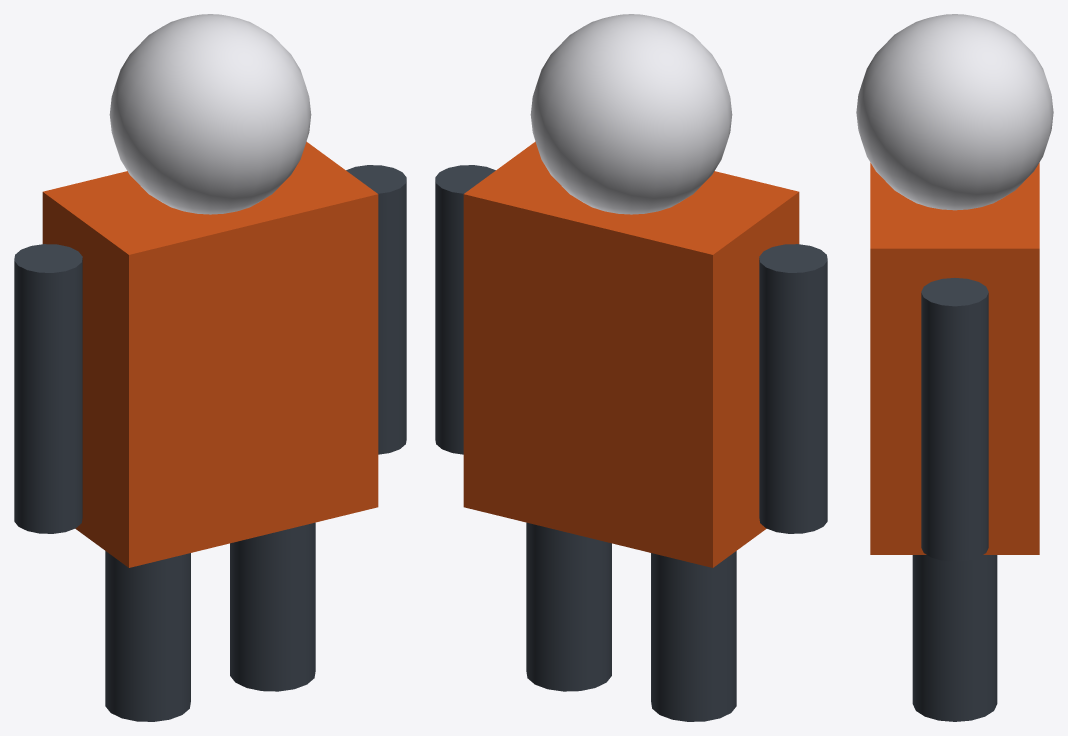
Rendered from robot.obj.
3 renders of one model, left to right at view 1: azimuth 30°, elevation 25°; view 2: azimuth 150°, elevation 25°; view 3: azimuth 270°, elevation 25°, orthographic. The views are drawn at different scales.
Visible parts, largest first — view 1: body, head, arm_left, leg_left, leg_right, arm_right; view 2: body, head, arm_left, leg_left, leg_right, arm_right; view 3: body, head, arm_right, leg_right.
Boxes of the visible parts, x1,y1,x2,y2 form: body: (42,141,378,567); head: (109,14,311,214); arm_left: (14,244,82,533); leg_left: (105,551,190,721); leg_right: (230,522,315,691); arm_right: (346,165,406,454); body: (463,141,799,567); head: (530,14,732,214); arm_left: (759,244,827,533); leg_left: (651,551,736,721); leg_right: (526,522,611,691); arm_right: (435,165,495,454); body: (870,162,1039,554); head: (856,14,1053,210); arm_right: (921,278,988,561); leg_right: (912,555,997,721).
Bounding box in the file's own units: 1.54 × 2.55 × 0.7.
